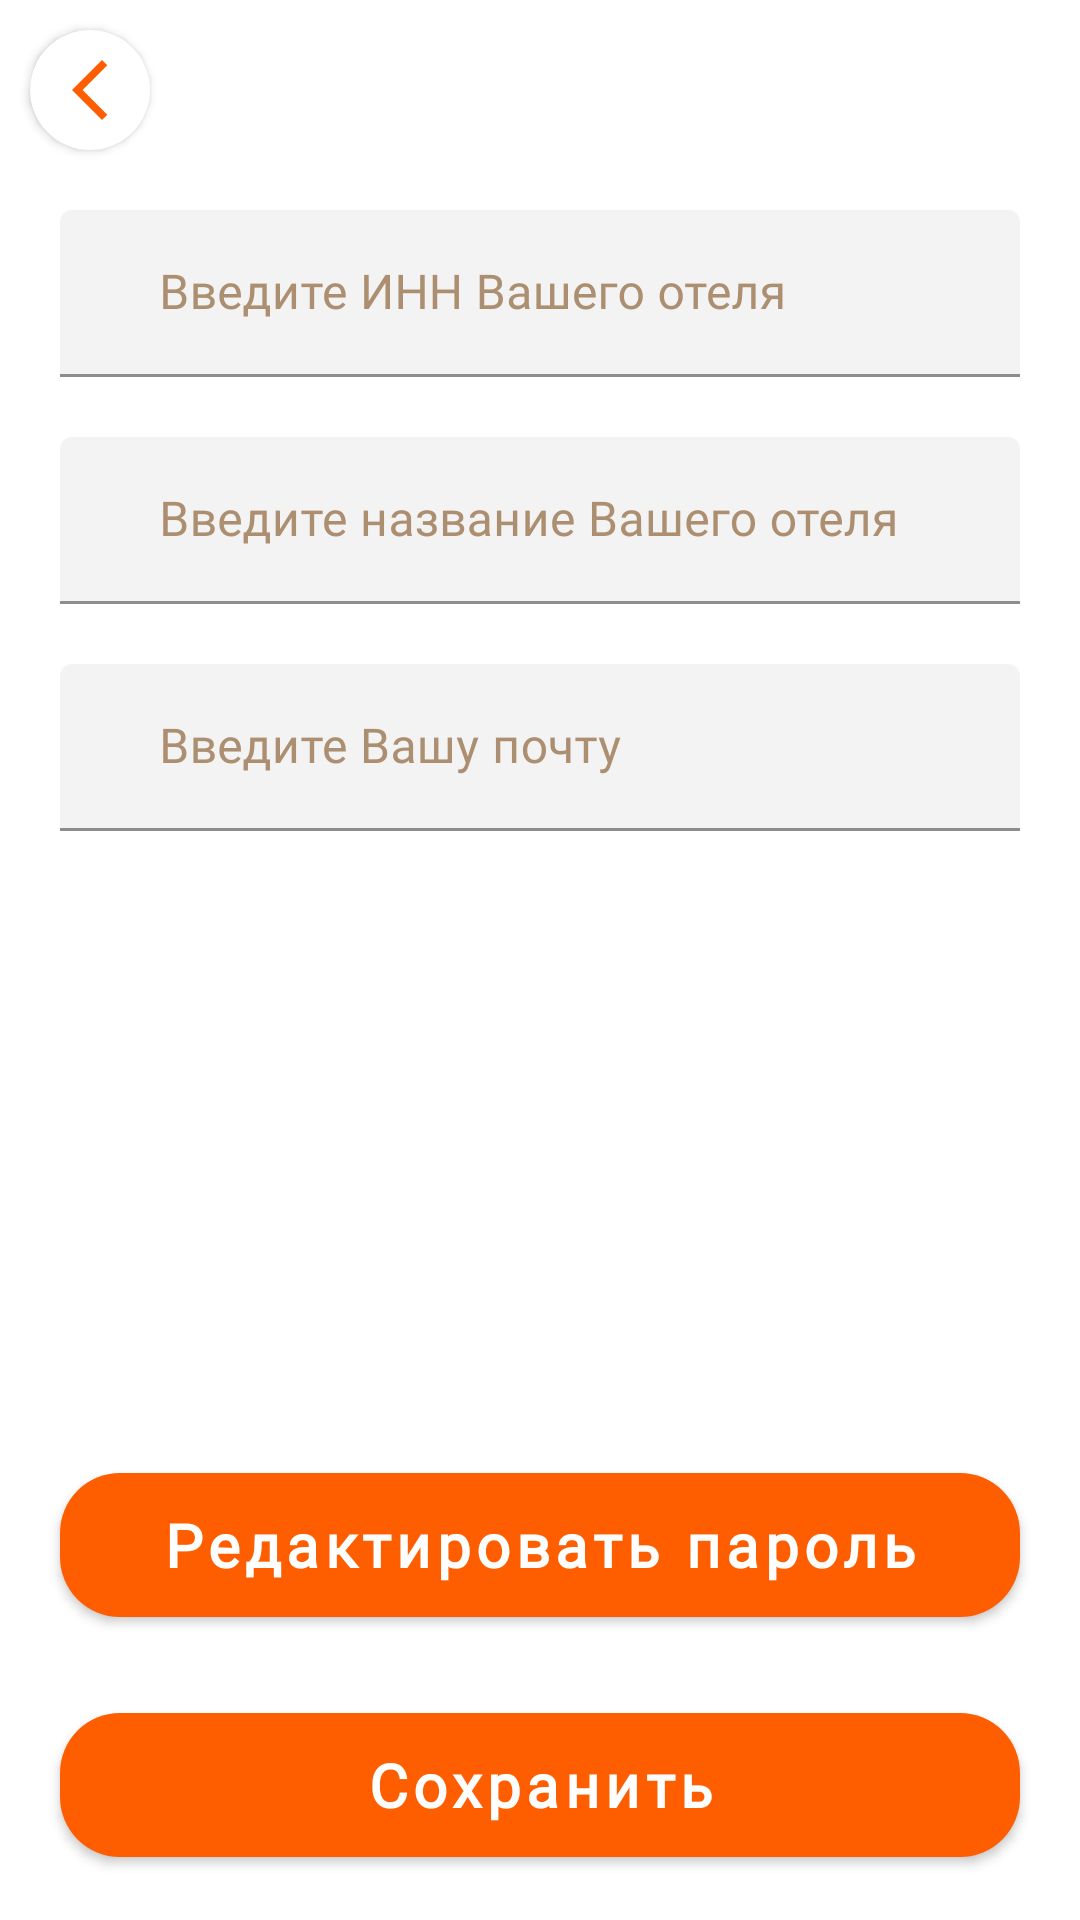

Screen size 1080 × 1920. Icon name, then its center in pixels as (x=x, y=y):
back: (x=89, y=90)
